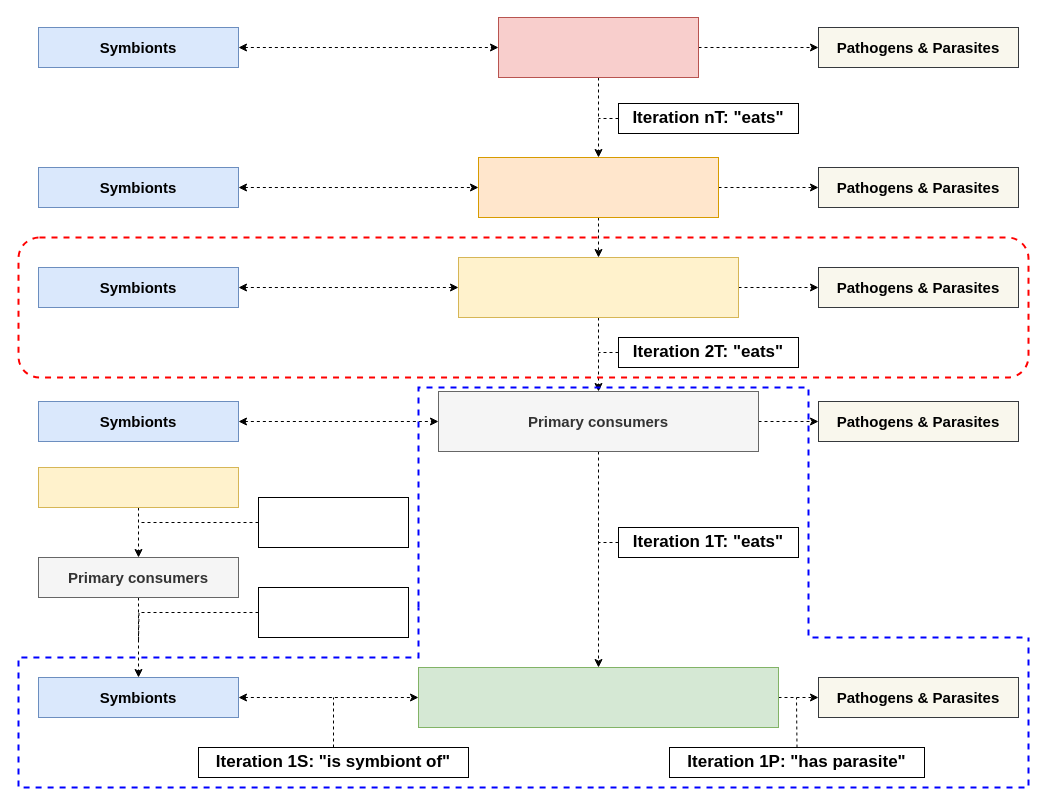
Image size: 1047x807. Some labels were removed from this diagram. The centre of each missing label's shape, as x and y in pixels:
Apex consumers: [598,47]
Iteration 1S1T: "eats": [333,612]
Iteration 1S2T: "eats": [333,522]
Primary producers: [598,697]
Secondary consumers: [598,287]
Secondary consumers:: [138,487]
Tertiary consumers: [598,187]
